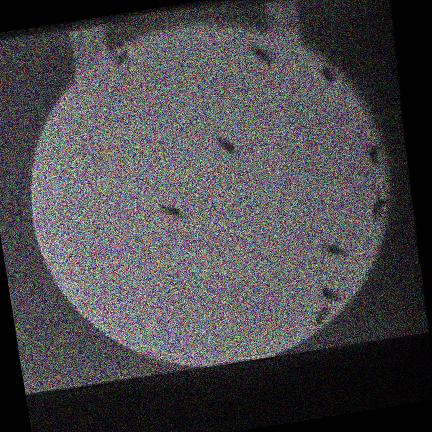fly: (248, 45, 272, 63), (372, 193, 386, 221), (321, 244, 347, 258), (217, 138, 238, 155), (160, 205, 183, 217), (316, 307, 329, 326), (320, 67, 336, 82), (369, 145, 380, 166), (321, 289, 340, 301), (115, 52, 128, 65)
